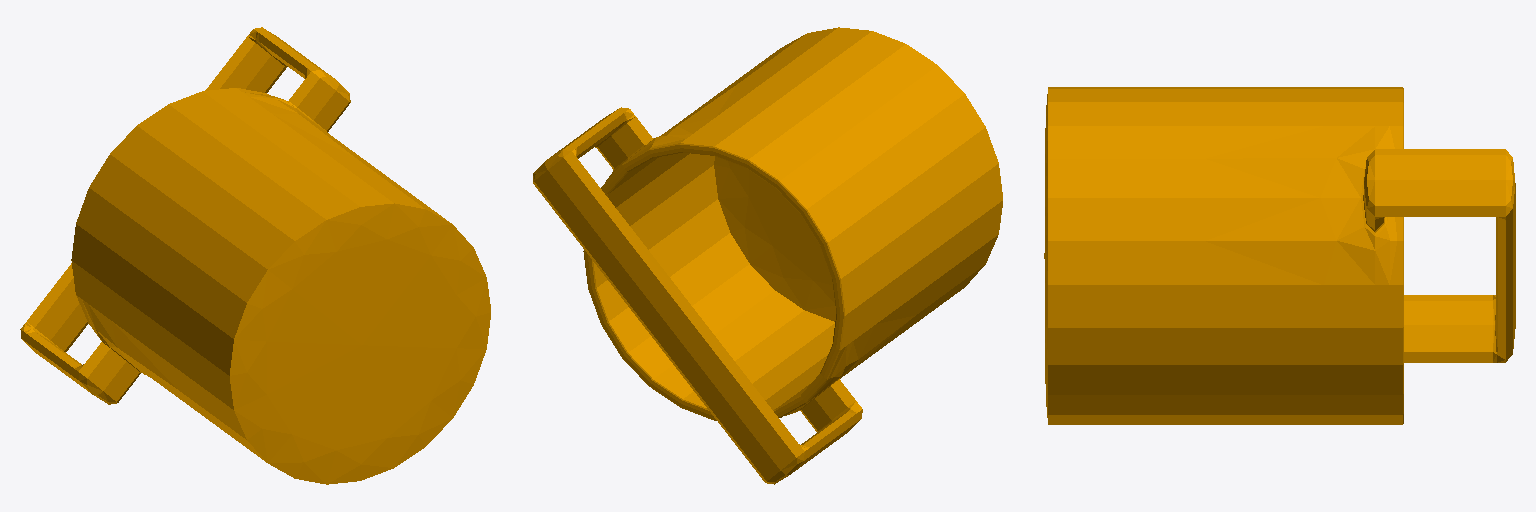
URDF robot description (147):
<?xml version="1.0" ?>
<robot name="147">
  <link name="body">
    <visual>
      <geometry>
        <mesh filename="../shapes/147.obj"/>
      </geometry>
    </visual>
    <collision>
      <geometry>
        <mesh filename="../shapes/147.obj"/>
      </geometry>
    </collision>
  </link>
</robot>

--- What the picture shows (computed from the rendered views, not written in the file) ---
Views: 3 orthographic renders of the robot side by side, from view 1: azimuth 30°, elevation 25°; view 2: azimuth 150°, elevation 25°; view 3: azimuth 270°, elevation 25°.
Robot: 147 — 1 links, 0 joints (none); root link body; default pose: every joint at zero.
Links seen in each view (by area): view 1: body; view 2: body; view 3: body.
Boxes of the visible links, x1,y1,x2,y2 form: body: (20,27,490,484); body: (533,27,1002,484); body: (1044,87,1515,424).
Bounding box of the posed robot: 1.88 × 2.51 × 1.88 m (x, y, z).
Meshes: 1 distinct files referenced, 1 mesh visuals loaded (1 OBJ).